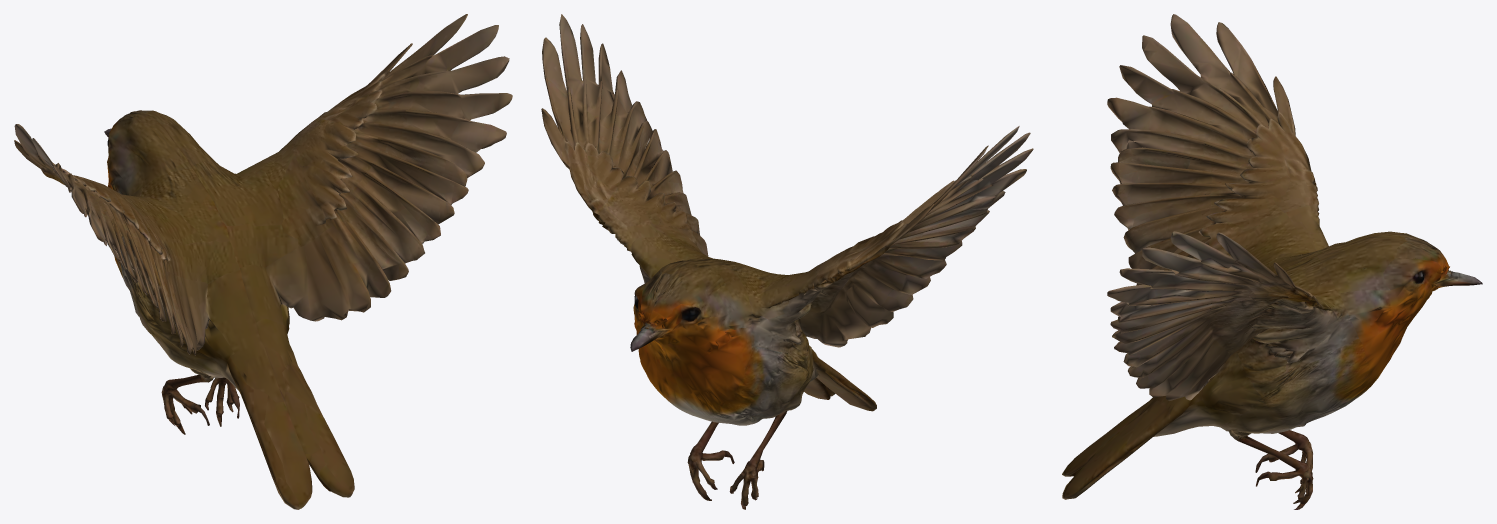
File: bird.glb
3 views of the same model, side by side, from view 1: azimuth 30°, elevation 25°; view 2: azimuth 150°, elevation 25°; view 3: azimuth 270°, elevation 25° (orthographic). The views are drawn at different scales.
Parts seen in each view (by area): view 1: tripo_node_697d0fa1-b354-4c58-a2a9-7d8b52cae03c; view 2: tripo_node_697d0fa1-b354-4c58-a2a9-7d8b52cae03c; view 3: tripo_node_697d0fa1-b354-4c58-a2a9-7d8b52cae03c.
Part boxes in pixels (x1,y1,x2,y2): tripo_node_697d0fa1-b354-4c58-a2a9-7d8b52cae03c: (14, 14, 512, 509); tripo_node_697d0fa1-b354-4c58-a2a9-7d8b52cae03c: (541, 14, 1033, 509); tripo_node_697d0fa1-b354-4c58-a2a9-7d8b52cae03c: (1062, 14, 1482, 509).
Bounding box in the file's own units: 0.9787 × 0.7959 × 0.8002.
Materials: 1 (1 with a texture image).
